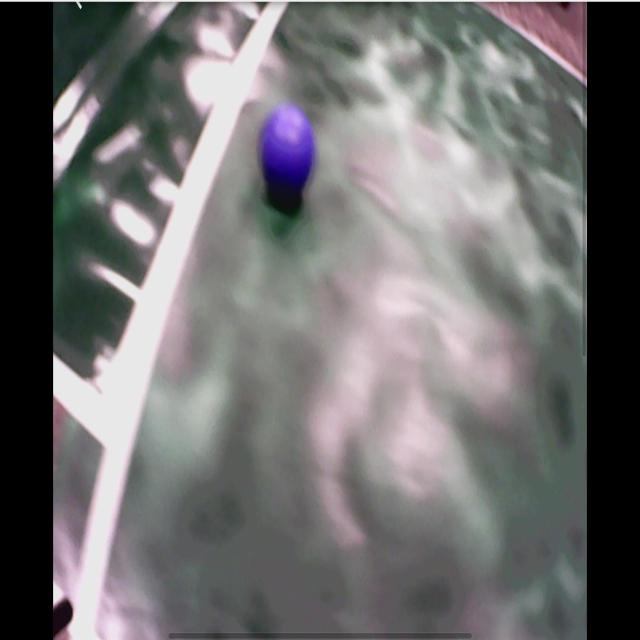ball: (260, 107, 313, 185)
